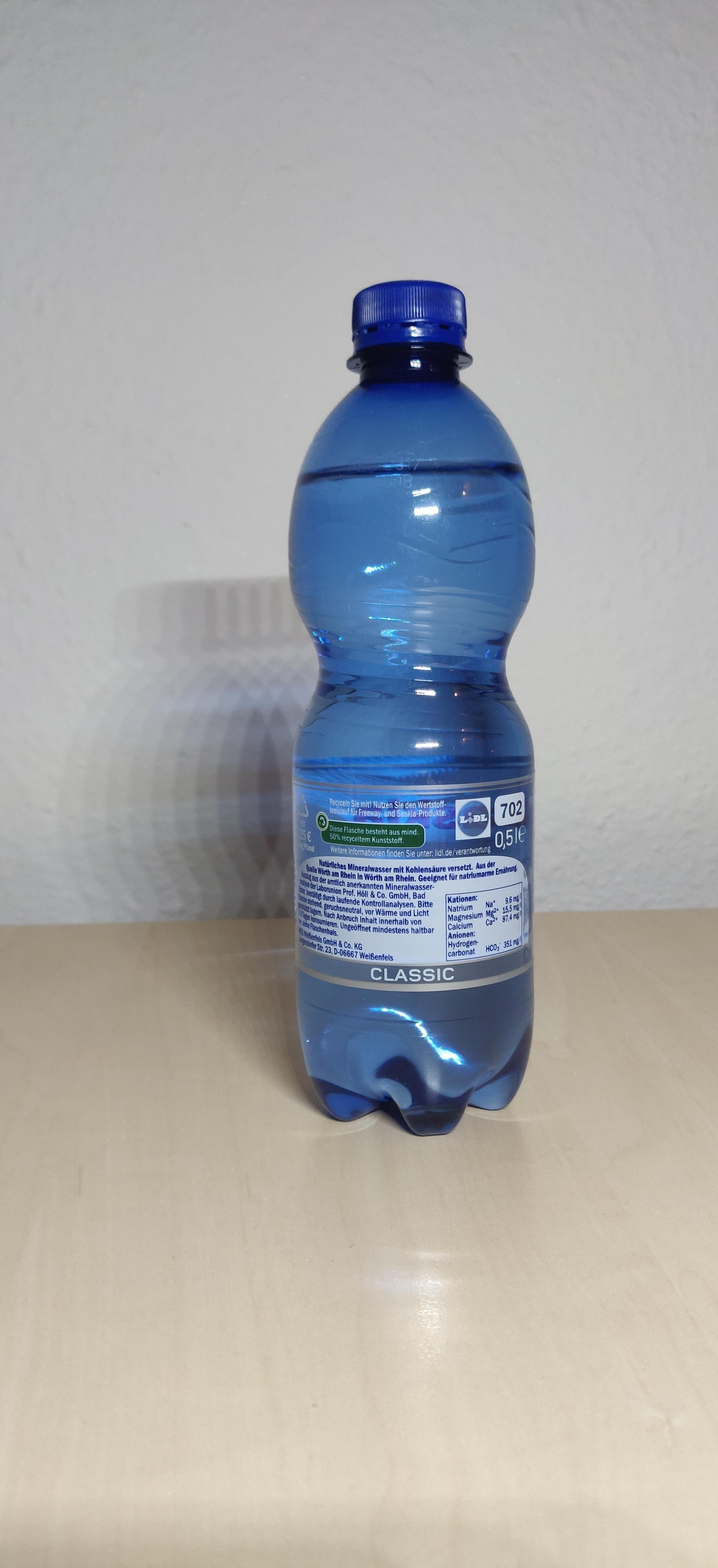bottle-plastic: (286, 278, 538, 1145)
